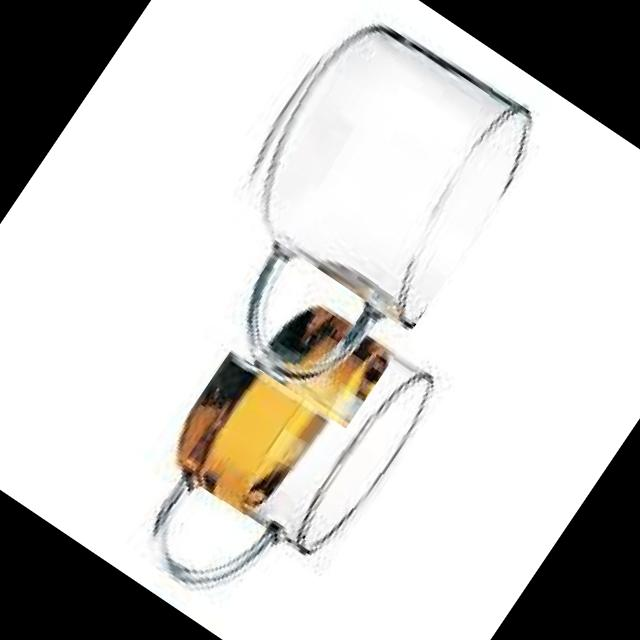Glass: (152, 0, 551, 428), (105, 270, 452, 640)
